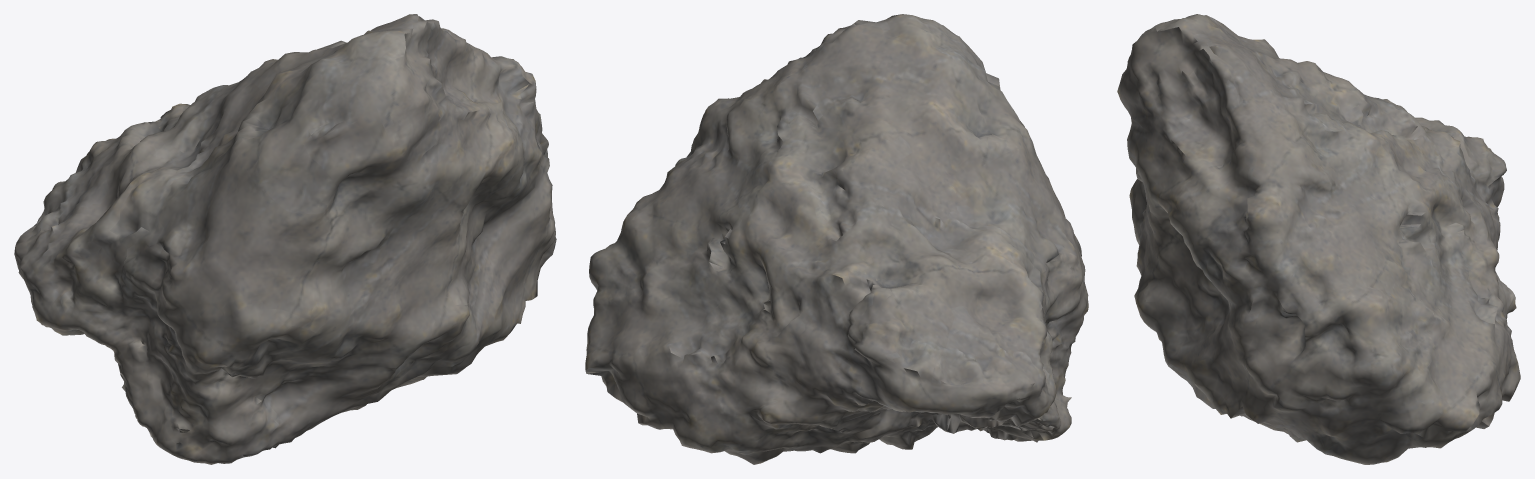
File: Trestraou rock1.dae
3 views of the same model, side by side, from view 1: azimuth 30°, elevation 25°; view 2: azimuth 150°, elevation 25°; view 3: azimuth 270°, elevation 25° (orthographic). The views are drawn at different scales.
Visible parts, largest first — view 1: Trestraou_rock1; view 2: Trestraou_rock1; view 3: Trestraou_rock1.
Boxes of the visible parts, left/top/right/bottom form: Trestraou_rock1: left=14, top=14, right=556, bottom=464; Trestraou_rock1: left=585, top=14, right=1088, bottom=464; Trestraou_rock1: left=1117, top=14, right=1520, bottom=464.
Size of the model in its own units: 0.5552 by 0.41 by 0.429.
Materials: 1 (1 with a texture image).
